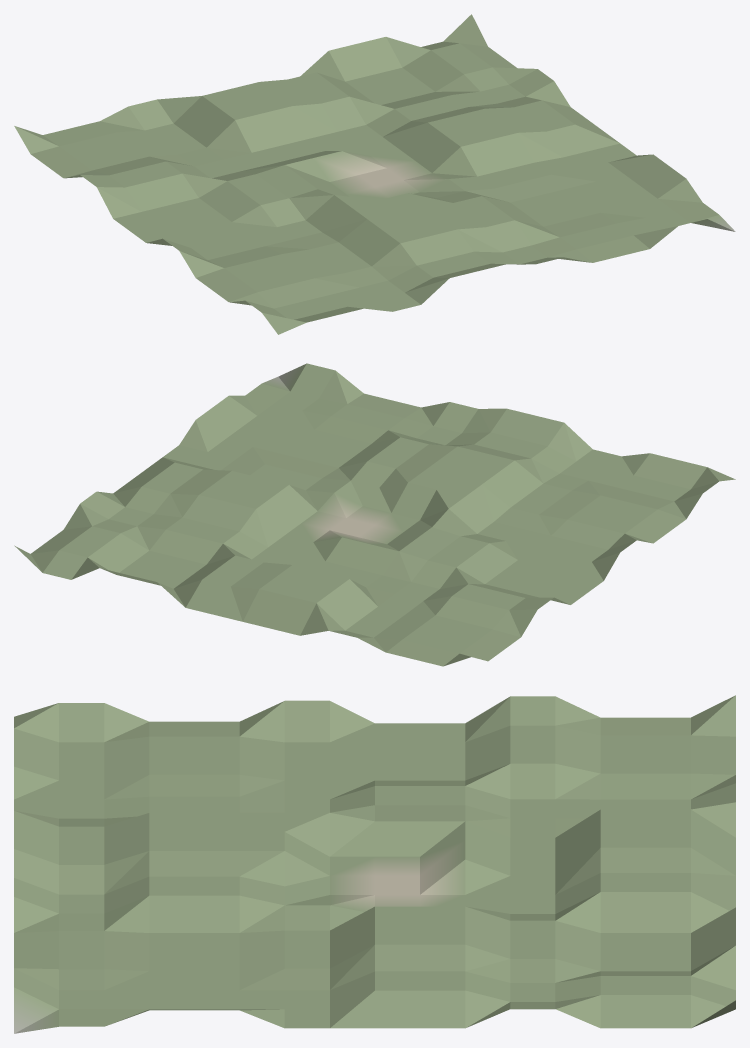
3 renders of one model, top to bottom at view 1: azimuth 30°, elevation 25°; view 2: azimuth 150°, elevation 25°; view 3: azimuth 270°, elevation 25°, orthographic. The views are drawn at different scales.
Size of the model in its own units: 32 by 1.65 by 32.
